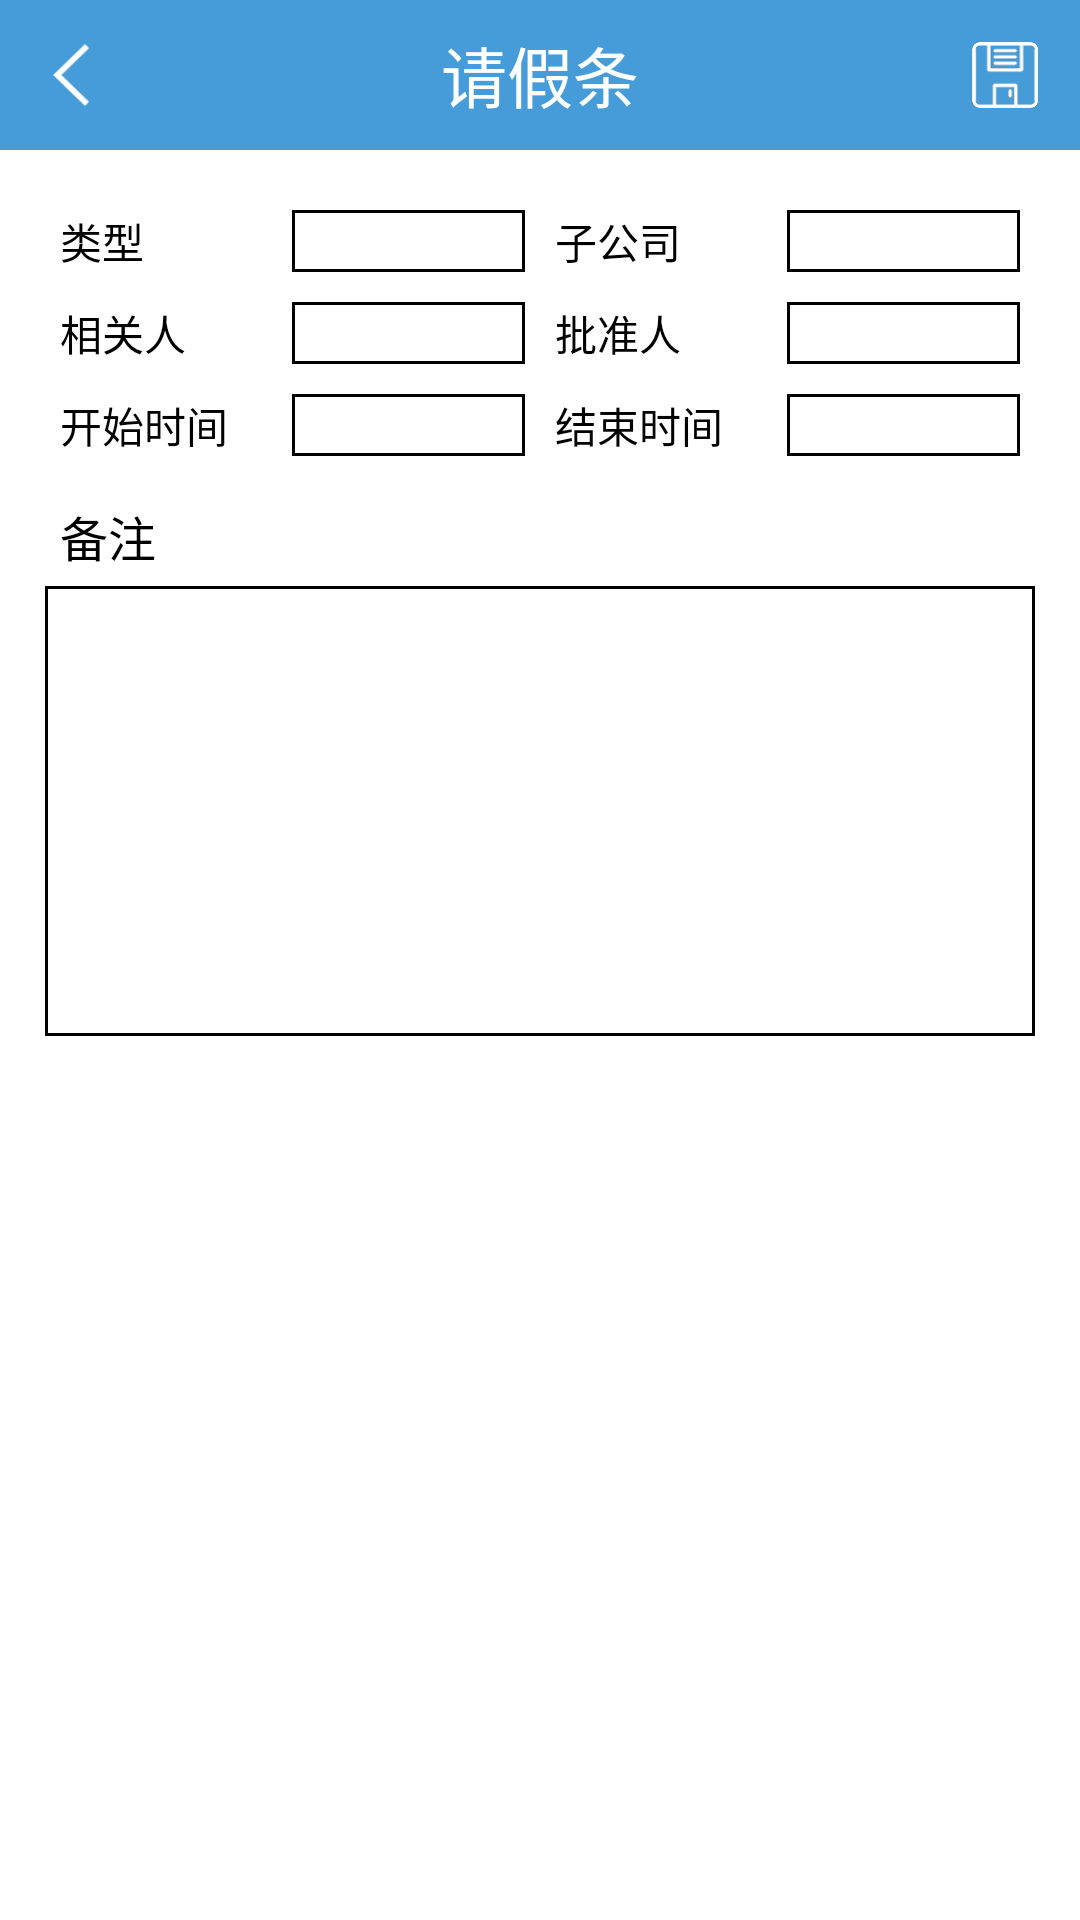

Named icons in this screenshot (1080w x 1920h) and their centers, [x,y]:
back: [71,75]
save: [1005,75]
